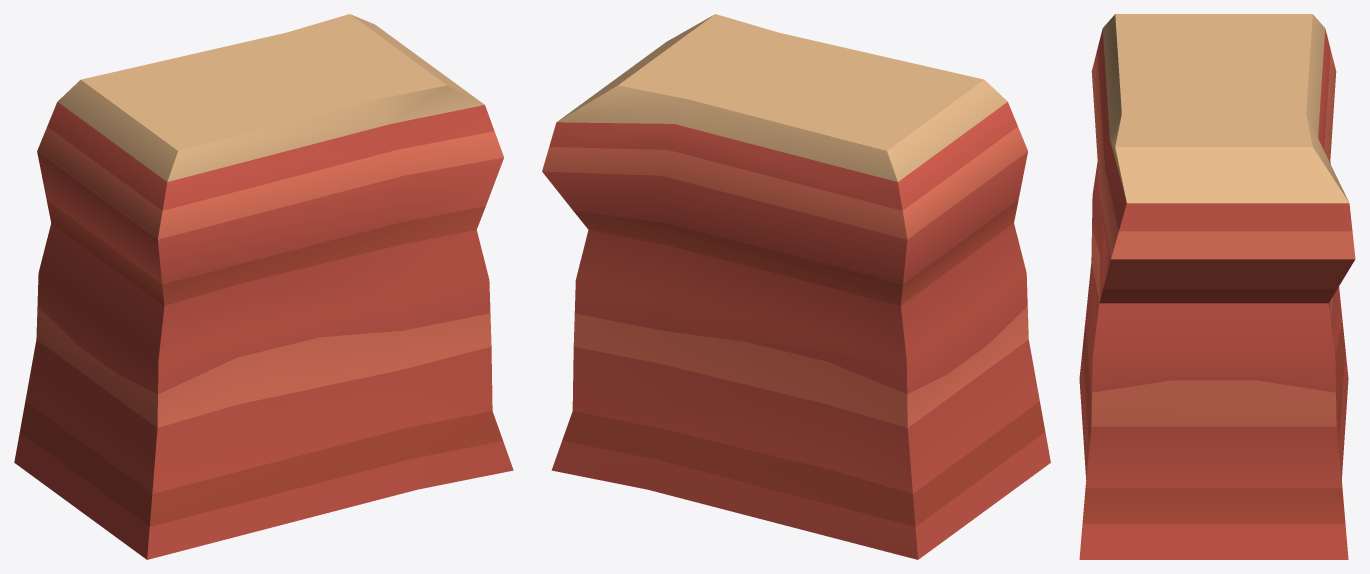
The model's file is StoneWall006.fbx.
3 views of the same model, side by side, from view 1: azimuth 30°, elevation 25°; view 2: azimuth 150°, elevation 25°; view 3: azimuth 270°, elevation 25° (orthographic).
Visible parts, largest first — view 1: StoneWall006; view 2: StoneWall006; view 3: StoneWall006.
Boxes of the visible parts, bbox=[...] form: StoneWall006: bbox=[14, 14, 513, 559]; StoneWall006: bbox=[542, 14, 1050, 559]; StoneWall006: bbox=[1079, 14, 1355, 559].
Size of the model in its own units: 456 by 449 by 289.
